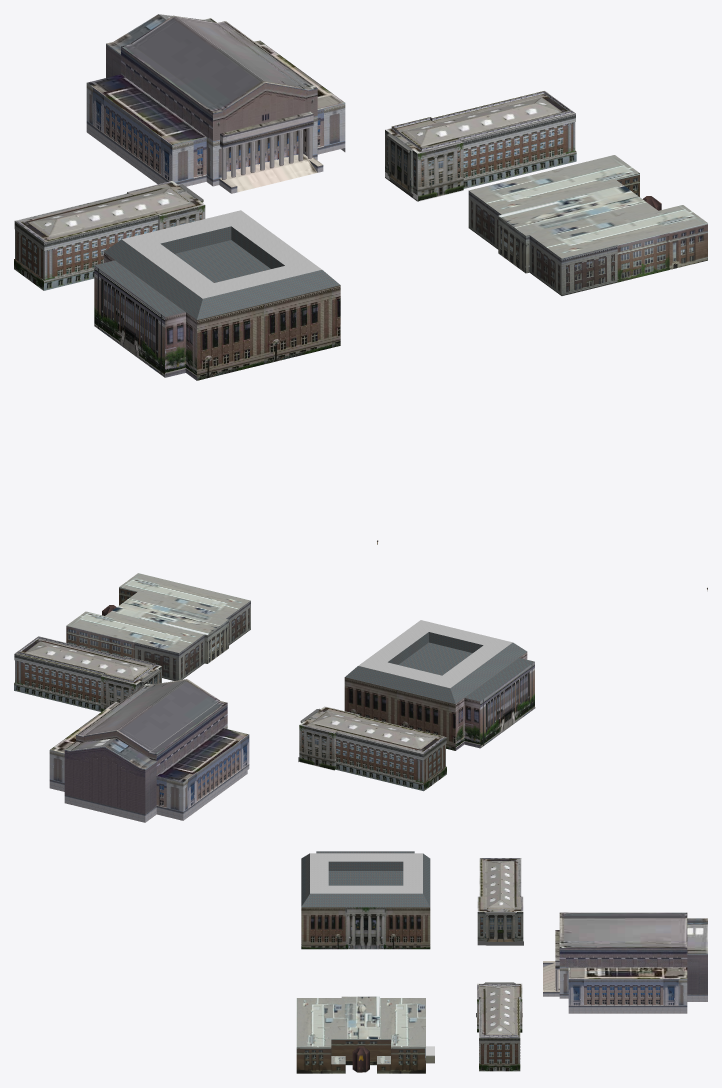
File: City.fbx
The picture shows the model from 3 angles, top to bottom: view 1: azimuth 30°, elevation 25°; view 2: azimuth 150°, elevation 25°; view 3: azimuth 270°, elevation 25°; orthographic projection. The views are drawn at different scales.
Parts seen in each view (by area): view 1: 3DGeom~66, 3DGeom~14, 3DGeom~98, 3DGeom~50, 3DGeom~43, 3DGeom~44, 3DGeom~93, 3DGeom~16, 3DGeom~48, 3DGeom~47, 3DGeom~92, 3DGeom~71 (+16 smaller); view 2: 3DGeom~66, 3DGeom~14, 3DGeom~98, 3DGeom~73, 3DGeom~50, 3DGeom~43, 3DGeom~44, 3DGeom~93, 3DGeom~92, 3DGeom~48, 3DGeom~16, 3DGeom~47 (+14 smaller); view 3: 3DGeom~66, 3DGeom~14, 3DGeom~51, 3DGeom~98, 3DGeom~43, 3DGeom~44, 3DGeom~72, 3DGeom~19, 3DGeom~74, 3DGeom~47, 3DGeom~64, 3DGeom~89 (+6 smaller).
Part boxes in pixels (left/top/right/bottom): 3DGeom~66: left=87, top=14, right=344, bottom=145; 3DGeom~14: left=469, top=155, right=707, bottom=258; 3DGeom~98: left=15, top=91, right=575, bottom=242; 3DGeom~50: left=197, top=285, right=340, bottom=380; 3DGeom~43: left=104, top=226, right=340, bottom=319; 3DGeom~44: left=122, top=210, right=321, bottom=298; 3DGeom~93: left=462, top=113, right=576, bottom=188; 3DGeom~16: left=468, top=191, right=617, bottom=295; 3DGeom~48: left=94, top=265, right=165, bottom=377; 3DGeom~47: left=95, top=240, right=270, bottom=316; 3DGeom~92: left=44, top=215, right=158, bottom=290; 3DGeom~71: left=213, top=83, right=317, bottom=141; 3DGeom~66: left=50, top=679, right=248, bottom=782; 3DGeom~14: left=67, top=573, right=250, bottom=652; 3DGeom~98: left=15, top=636, right=446, bottom=753; 3DGeom~73: left=64, top=746, right=145, bottom=813; 3DGeom~50: left=344, top=677, right=455, bottom=750; 3DGeom~43: left=345, top=632, right=527, bottom=703; 3DGeom~44: left=358, top=620, right=512, bottom=687; 3DGeom~93: left=335, top=733, right=423, bottom=791; 3DGeom~92: left=14, top=654, right=101, bottom=711; 3DGeom~48: left=480, top=662, right=535, bottom=747; 3DGeom~16: left=134, top=601, right=250, bottom=680; 3DGeom~47: left=346, top=642, right=534, bottom=703; 3DGeom~66: left=555, top=912, right=707, bottom=978; 3DGeom~14: left=296, top=996, right=425, bottom=1064; 3DGeom~51: left=301, top=907, right=430, bottom=949; 3DGeom~98: left=477, top=858, right=523, bottom=1037; 3DGeom~43: left=301, top=853, right=430, bottom=907; 3DGeom~44: left=310, top=853, right=422, bottom=893; 3DGeom~72: left=559, top=948, right=687, bottom=967; 3DGeom~19: left=296, top=1047, right=425, bottom=1073; 3DGeom~74: left=584, top=979, right=663, bottom=1005; 3DGeom~47: left=316, top=851, right=414, bottom=885; 3DGeom~64: left=543, top=962, right=707, bottom=1013; 3DGeom~89: left=477, top=912, right=523, bottom=941.
Size of the model in its own units: 28.82 by 46.66 by 5.43.
Materials: 61 (53 with a texture image).
